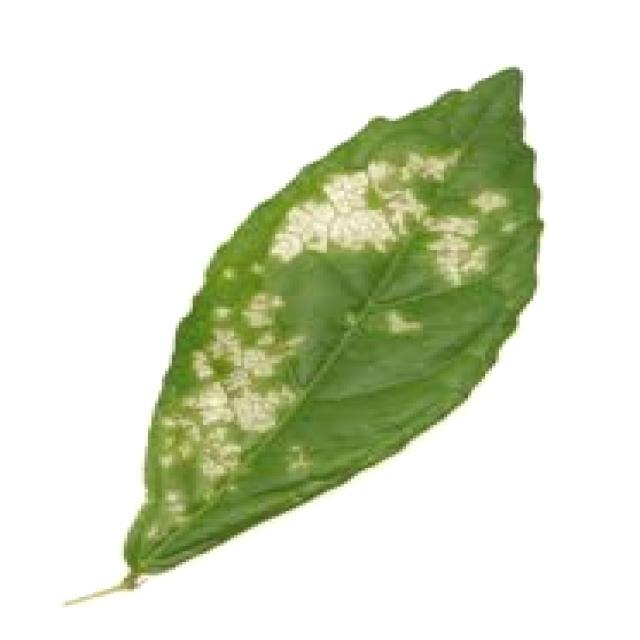leaf: (62, 64, 544, 606)
